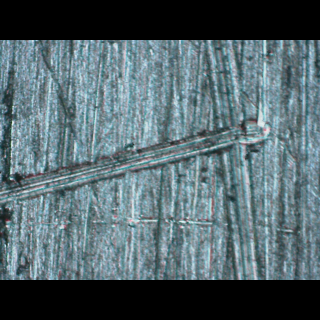d: (0, 112, 276, 224)
